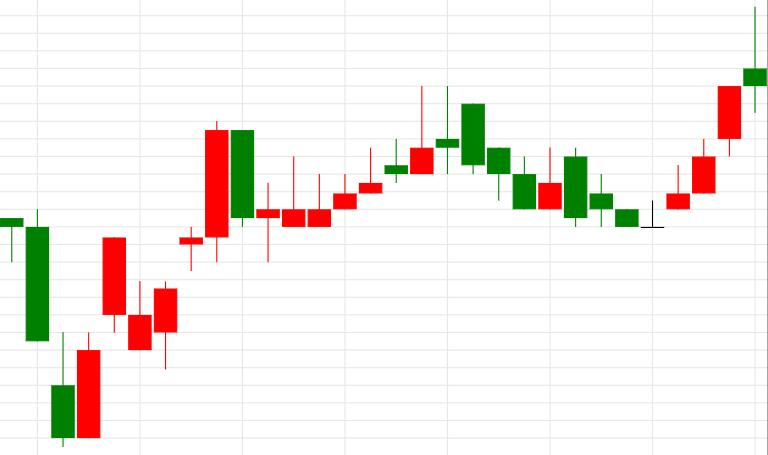shooting_star_fall: (256, 87, 434, 263)
